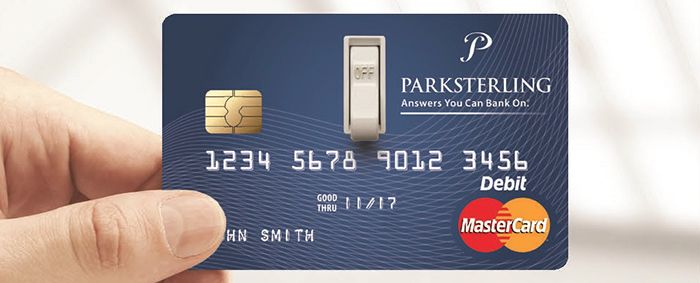tarjeta: (160, 12, 571, 272)
